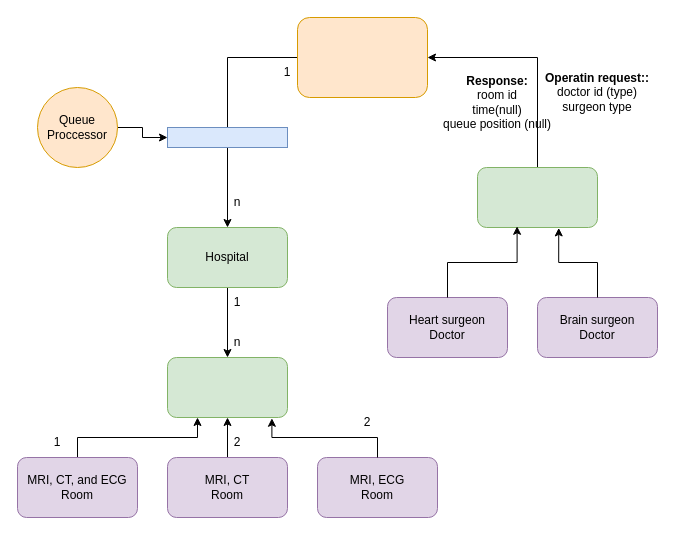
The diagram is 695 pixels wide and 535 high, and some of its shapes have lost their labels. Each missing label, with the box of its shape:
Doctor: (476, 166, 598, 228)
Operating Room: (166, 356, 288, 418)
Operating Room Scheduler Service: (296, 16, 428, 98)
Queue: (166, 126, 288, 148)
